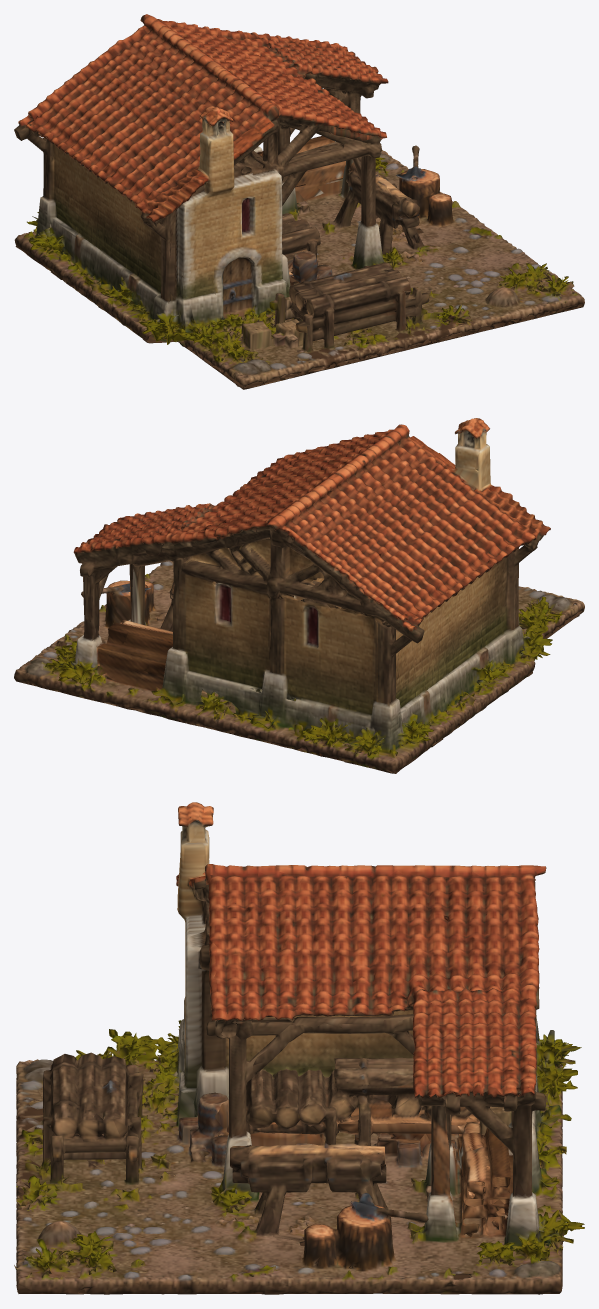
File: SM_Lenera.fbx
The picture shows the model from 3 angles, top to bottom: view 1: azimuth 30°, elevation 25°; view 2: azimuth 150°, elevation 25°; view 3: azimuth 270°, elevation 25°; orthographic projection. The views are drawn at different scales.
Visible parts, largest first — view 1: SM_Lenera; view 2: SM_Lenera; view 3: SM_Lenera.
Boxes of the visible parts, <box> form: SM_Lenera: <box>14,14,584,389</box>; SM_Lenera: <box>14,418,584,773</box>; SM_Lenera: <box>14,802,584,1294</box>.
Size of the model in its own units: 99.6 by 56.39 by 98.33.
1 material, 1 textured.
